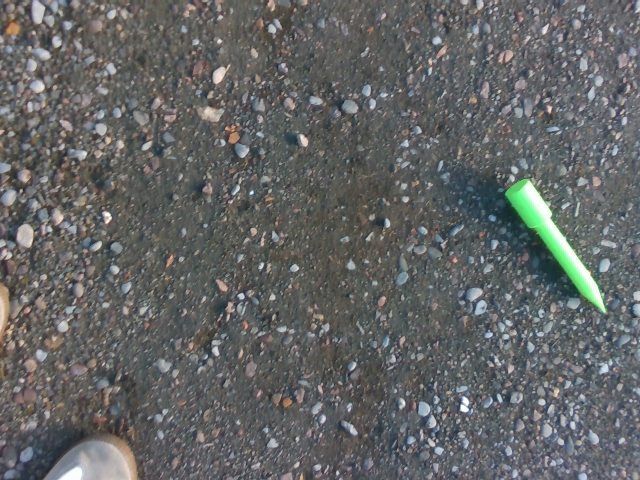Probe: (501, 172, 615, 313)
